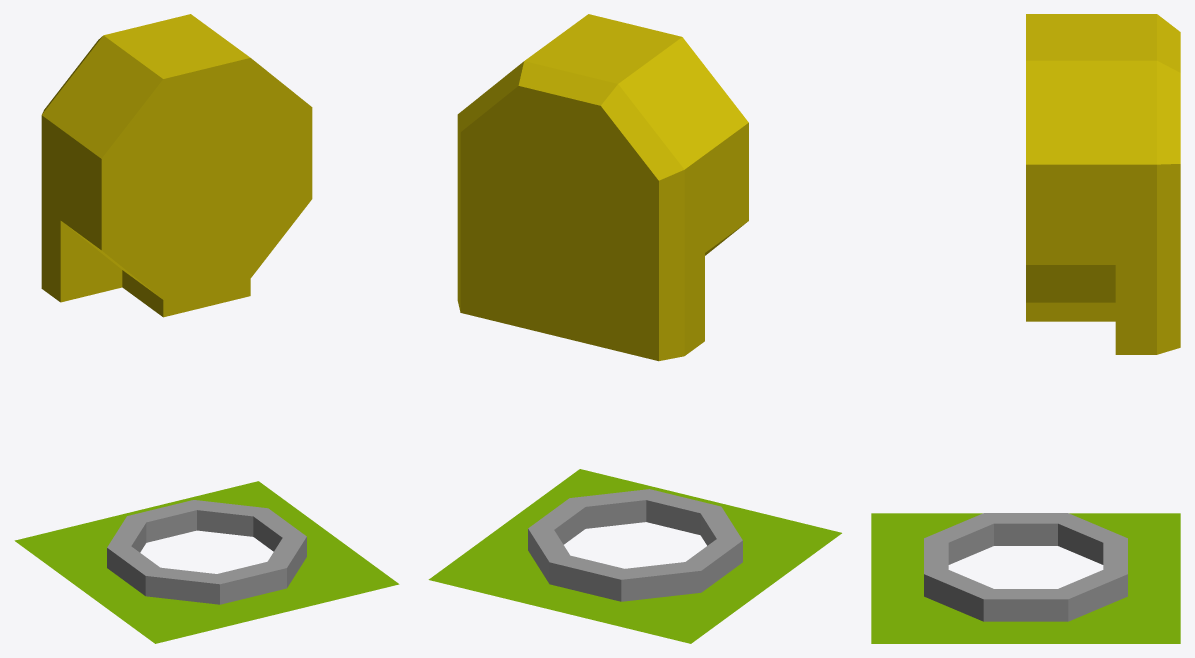
File: epe_robotic_hinge_small_a.dae
3 views of the same model, side by side, from view 1: azimuth 30°, elevation 25°; view 2: azimuth 150°, elevation 25°; view 3: azimuth 270°, elevation 25° (orthographic). The views are drawn at different scales.
Parts seen in each view (by area): view 1: small_robotic_hinge_a; view 2: small_robotic_hinge_a; view 3: small_robotic_hinge_a.
Boxes of the visible parts, x1=… form: small_robotic_hinge_a: x1=14, y1=14, x2=399, y2=643; small_robotic_hinge_a: x1=428, y1=14, x2=841, y2=643; small_robotic_hinge_a: x1=871, y1=14, x2=1180, y2=643.
Bounding box in the file's own units: 0.25 × 0.25 × 0.4829.
